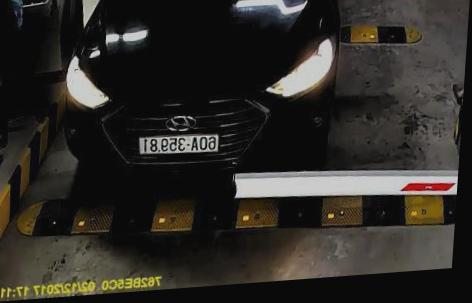License_Plate: (137, 130, 218, 157)
